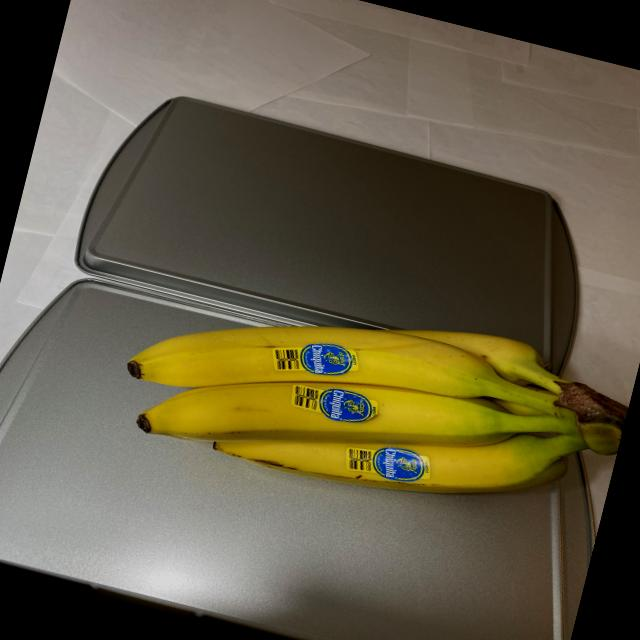banana: (101, 246, 624, 568)
